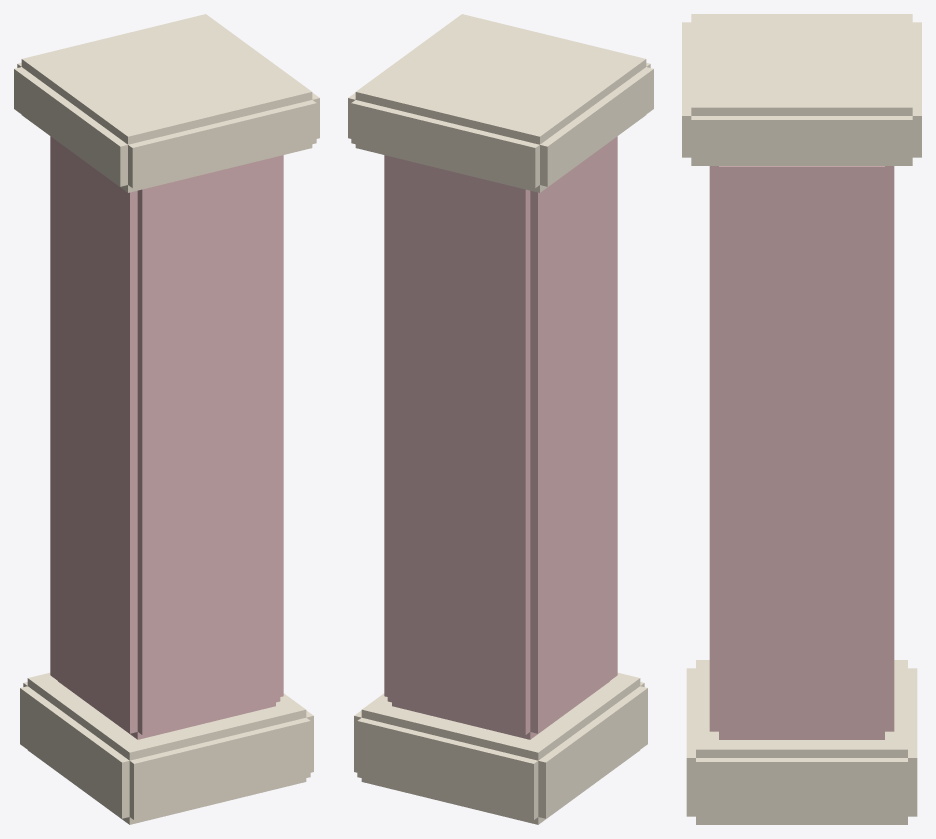
Rendered from HOB_Pillar.fbx.
3 views of the same model, side by side, from view 1: azimuth 30°, elevation 25°; view 2: azimuth 150°, elevation 25°; view 3: azimuth 270°, elevation 25° (orthographic). The views are drawn at different scales.
Visible parts, largest first — view 1: HOB_Pillar; view 2: HOB_Pillar; view 3: HOB_Pillar.
Boxes of the visible parts, x1,y1,x2,y2 form: HOB_Pillar: (14, 14, 319, 824); HOB_Pillar: (348, 14, 653, 824); HOB_Pillar: (682, 14, 921, 824).
Bounding box in the file's own units: 52 × 172 × 52.
